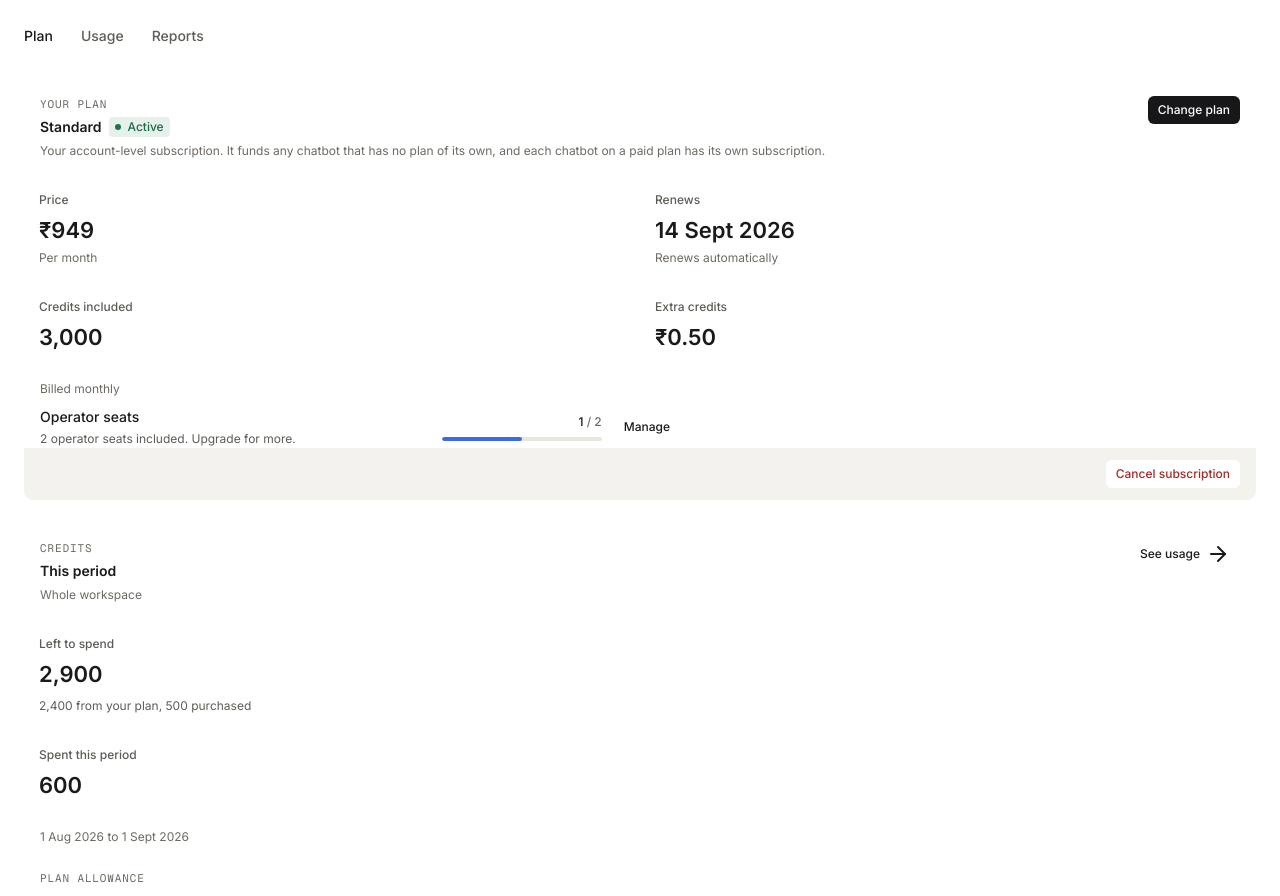
it: cancelling › can be dismissed from the keyboard without cancelling anything
Expected: the text "Standard" is shown, [40,118,102,135]
Click the button "Cancel subscription". click: [1173, 474]
box: [1106,460,1240,488]
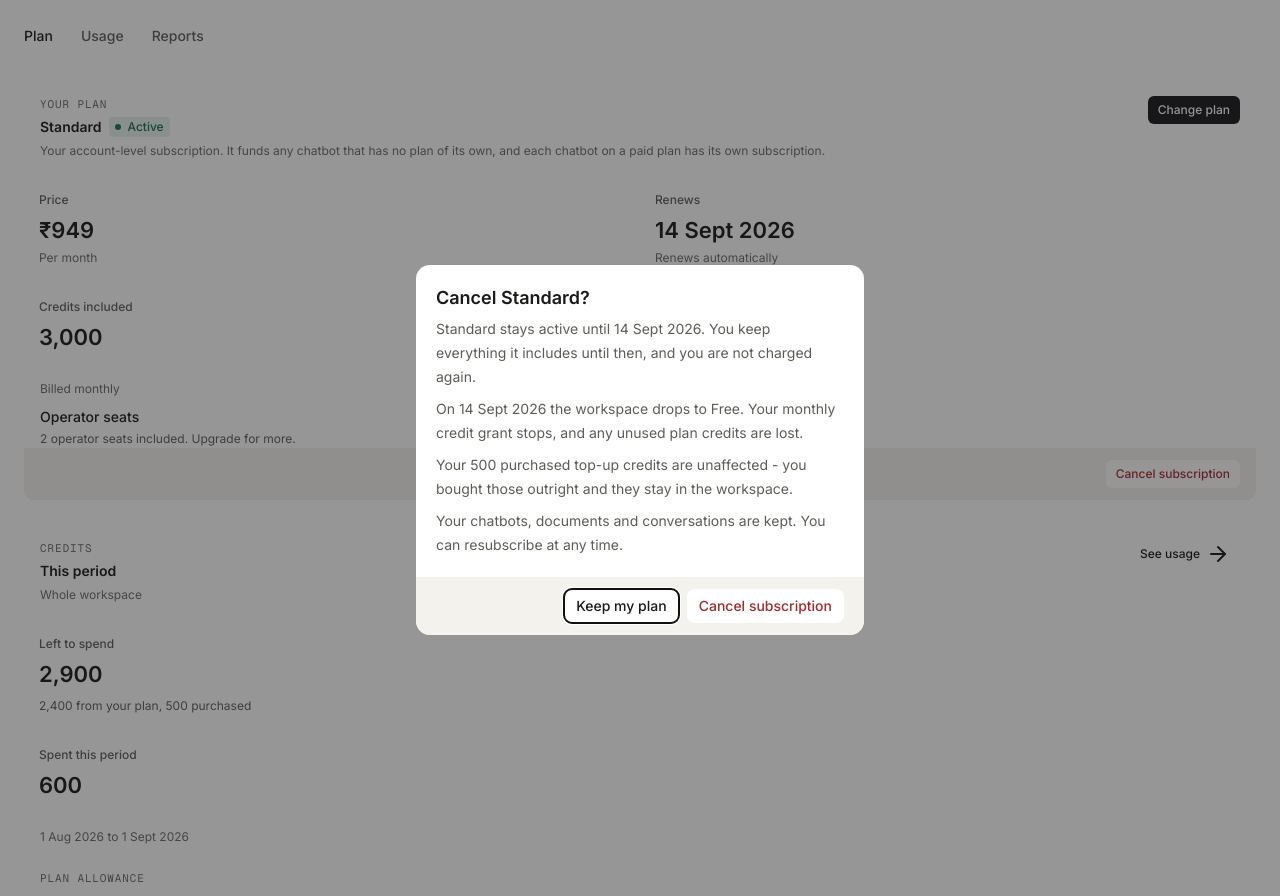
Result: the dialog is shown at [416,265,864,635]
Press Escape
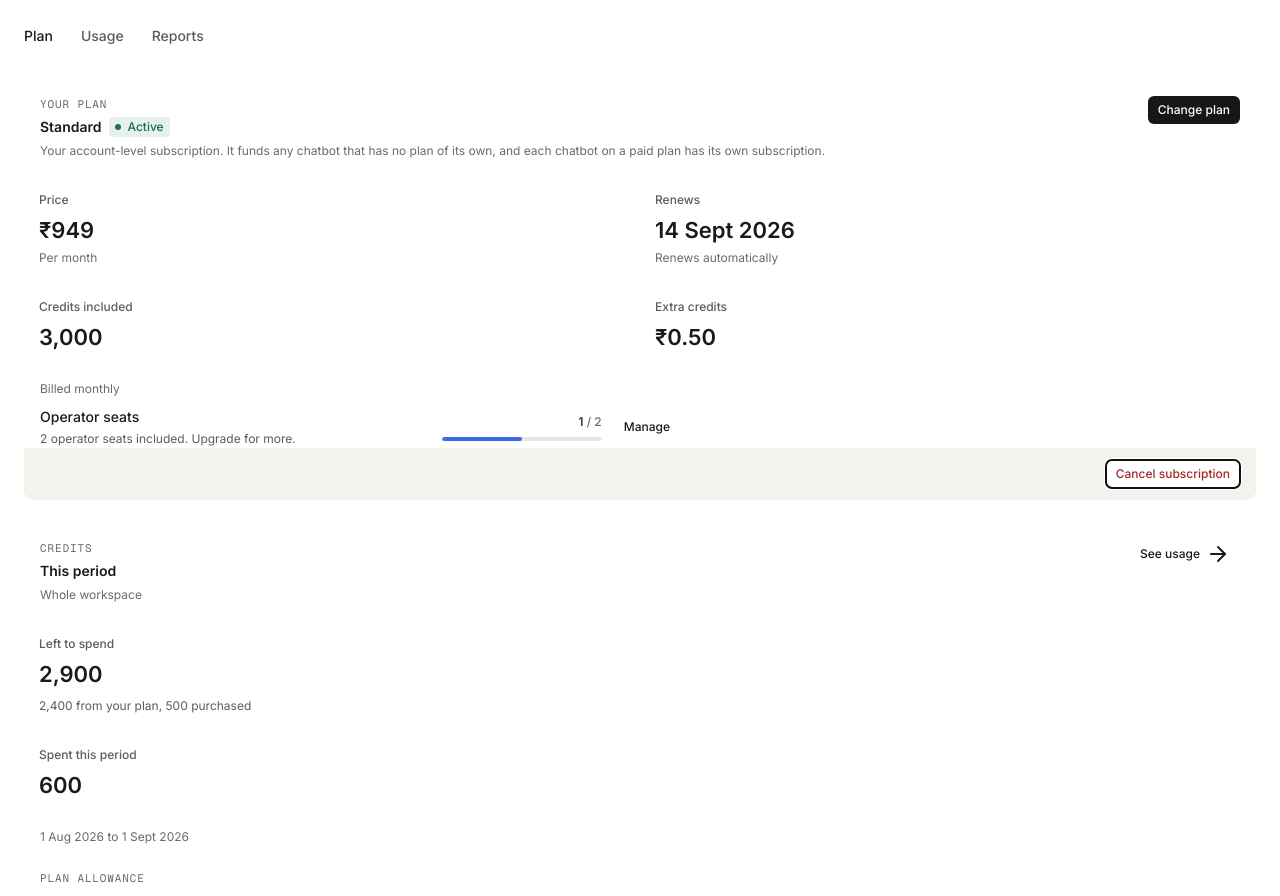
Result: the dialog is gone
